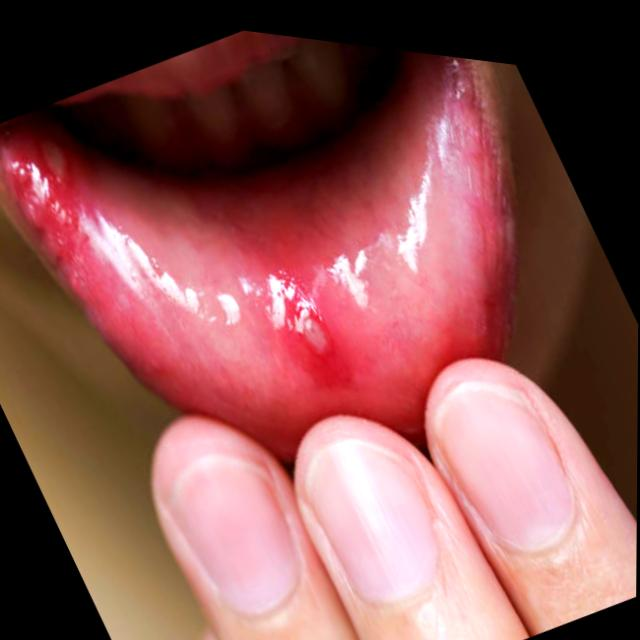ulcer: (276, 271, 348, 388)
